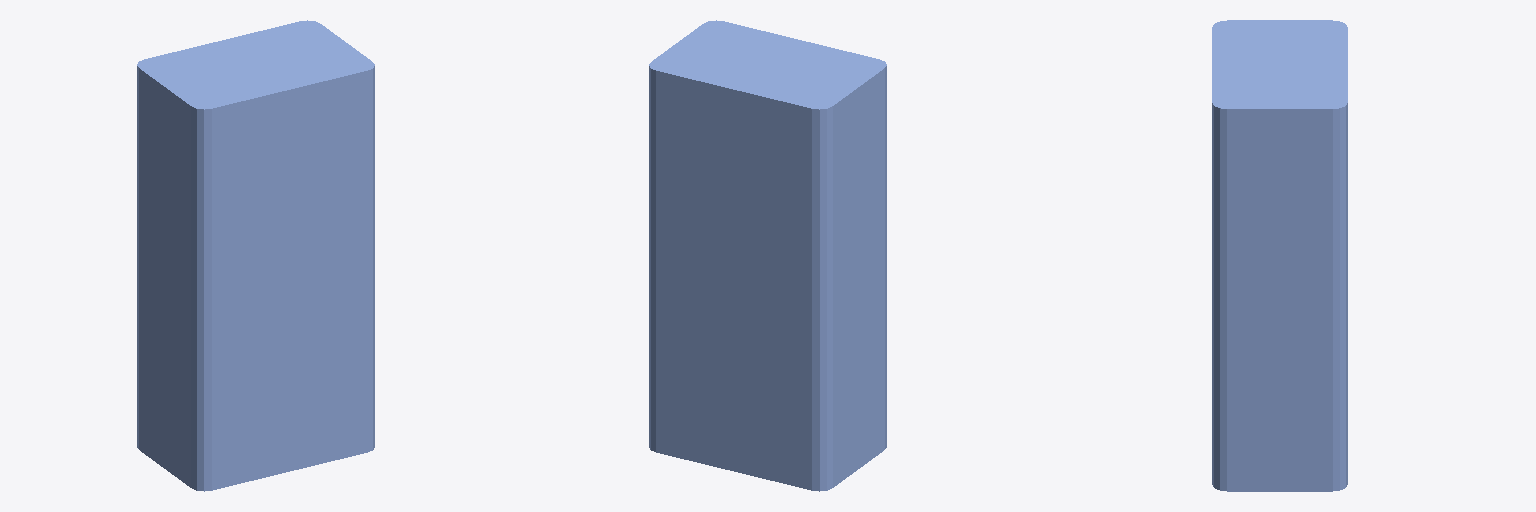
robot.urdf — Large_Short_Rectangle_JeansBlue:
<?xml version="1.0"?>
<robot name="Large_Short_Rectangle_JeansBlue">
    <link name="Large_Short_Rectangle_JeansBlue">
        <visual>
            <geometry>
                <mesh filename="../mesh/factory_insertion/Large_Short_Rectangle_JeansBlue.obj" scale="0.001 0.001 0.001"/>
            </geometry>
            <material name="Blue">
              <color rgba="0.65 0.75 0.95 0"/>
            </material>
        </visual>
        <collision>
            <geometry>
                <mesh filename="../mesh/factory_insertion/Large_Short_Rectangle_JeansBlue.obj" scale="0.001 0.001 0.001"/>
            </geometry>
            <sdf resolution="512"/>
        </collision>
    </link>
</robot>

--- Facts derived from the render (not from the file) ---
Views: 3 orthographic renders of the robot side by side, from view 1: azimuth 30°, elevation 25°; view 2: azimuth 150°, elevation 25°; view 3: azimuth 270°, elevation 25°.
Model Large_Short_Rectangle_JeansBlue with 1 links and 0 joints (none), rooted at Large_Short_Rectangle_JeansBlue, posed all joints at 0.
Visible links, largest first — view 1: Large_Short_Rectangle_JeansBlue; view 2: Large_Short_Rectangle_JeansBlue; view 3: Large_Short_Rectangle_JeansBlue.
Link boxes in pixels (x1=…): Large_Short_Rectangle_JeansBlue: x1=137, y1=20, x2=374, y2=491; Large_Short_Rectangle_JeansBlue: x1=649, y1=20, x2=886, y2=491; Large_Short_Rectangle_JeansBlue: x1=1212, y1=20, x2=1347, y2=491.
Bounding box of the posed robot: 0.0498 × 0.032 × 0.1 m (x, y, z).
1 mesh visuals loaded from 1 distinct referenced files (1 OBJ).
